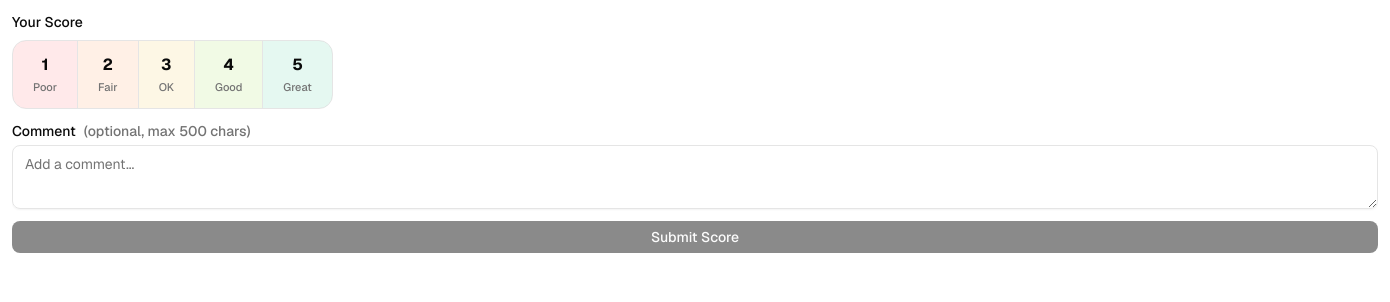
ScoreForm › shows API error message on failure
Click the radio button with aria-label "Score 4" at [229, 74], box 195,41 -> 263,108
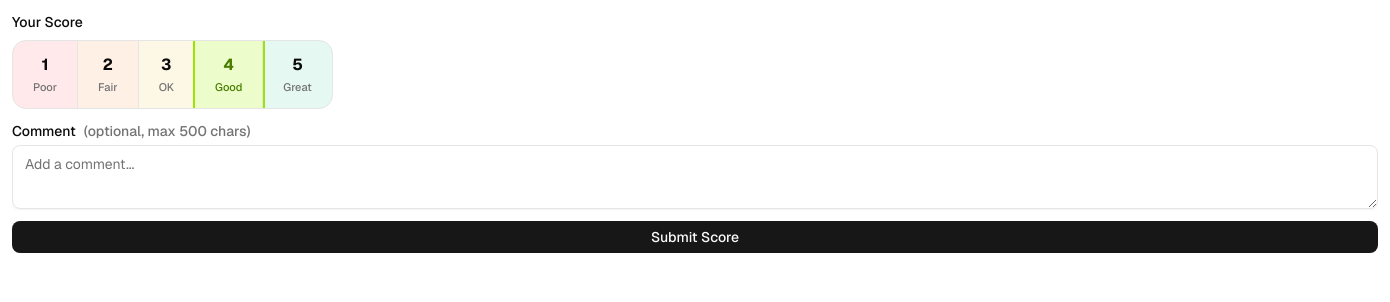
Click the button "Submit Score" at [695, 236], box 12,220 -> 1378,252
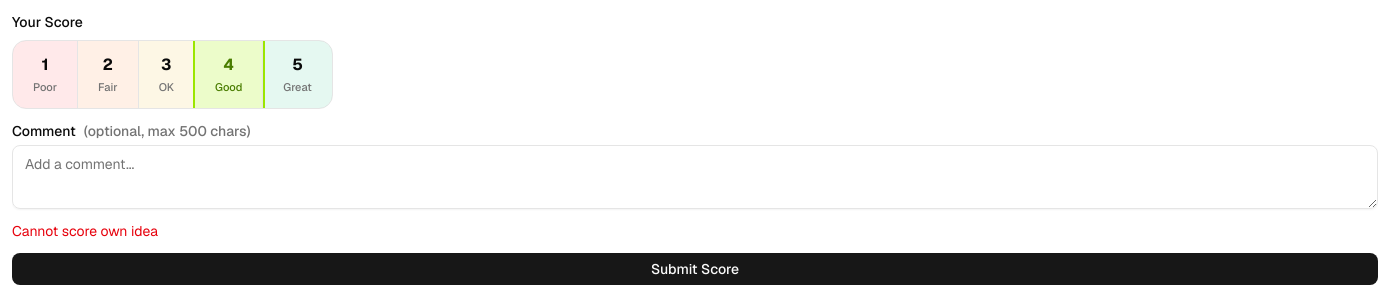
Now the message reads "Cannot score own idea", box 12,222 -> 158,240
